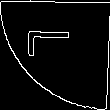L_E: (28, 39, 82, 71)
